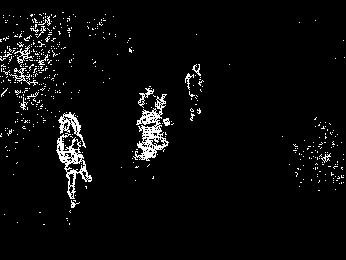person: (55, 111, 94, 211), (184, 62, 206, 121)
